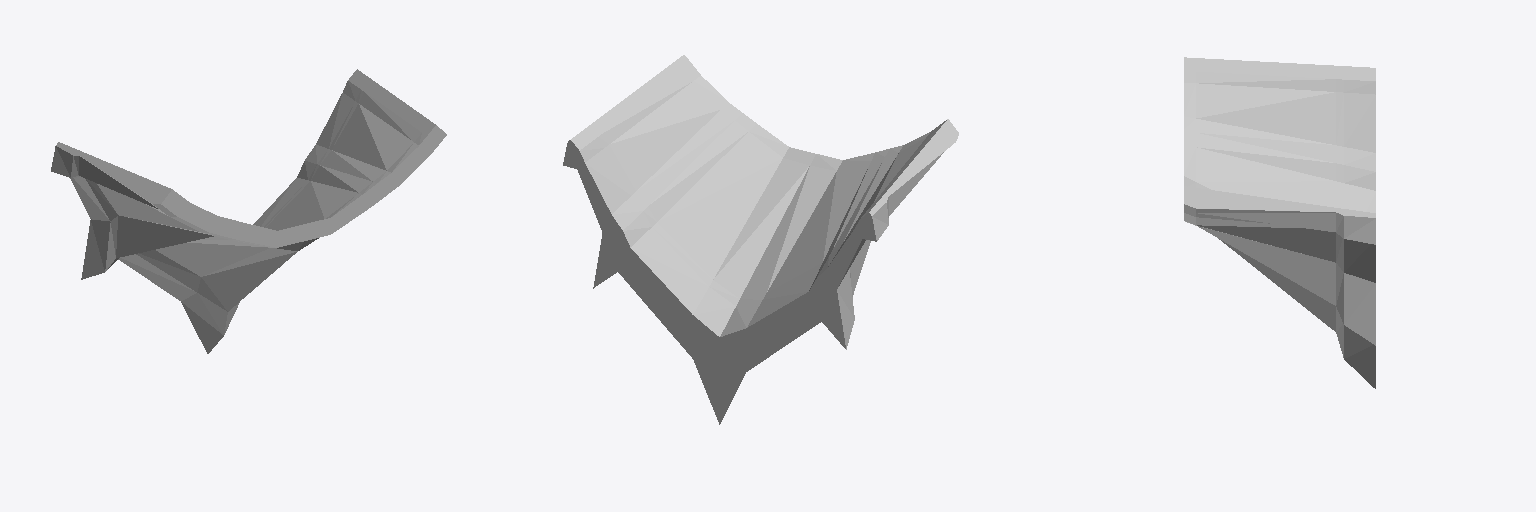
The model's file is shield.obj.
3 renders of one model, left to right at view 1: azimuth 30°, elevation 25°; view 2: azimuth 150°, elevation 25°; view 3: azimuth 270°, elevation 25°, orthographic.
Parts seen in each view (by area): view 1: shield; view 2: shield; view 3: shield.
Part boxes in pixels (x1,y1,x2,y2): shield: (51, 69, 446, 353); shield: (563, 55, 958, 424); shield: (1184, 57, 1375, 388).
Size of the model in its own units: 2.24 by 1.83 by 1.19.